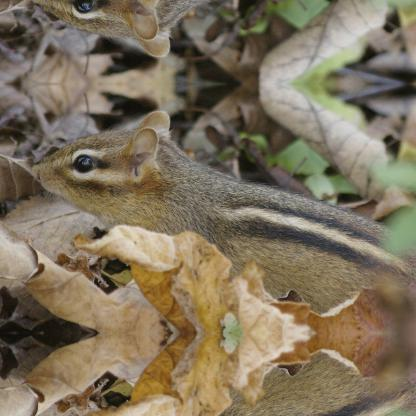Squirrel: (34, 108, 414, 319), (34, 344, 415, 415), (34, 0, 415, 58)
